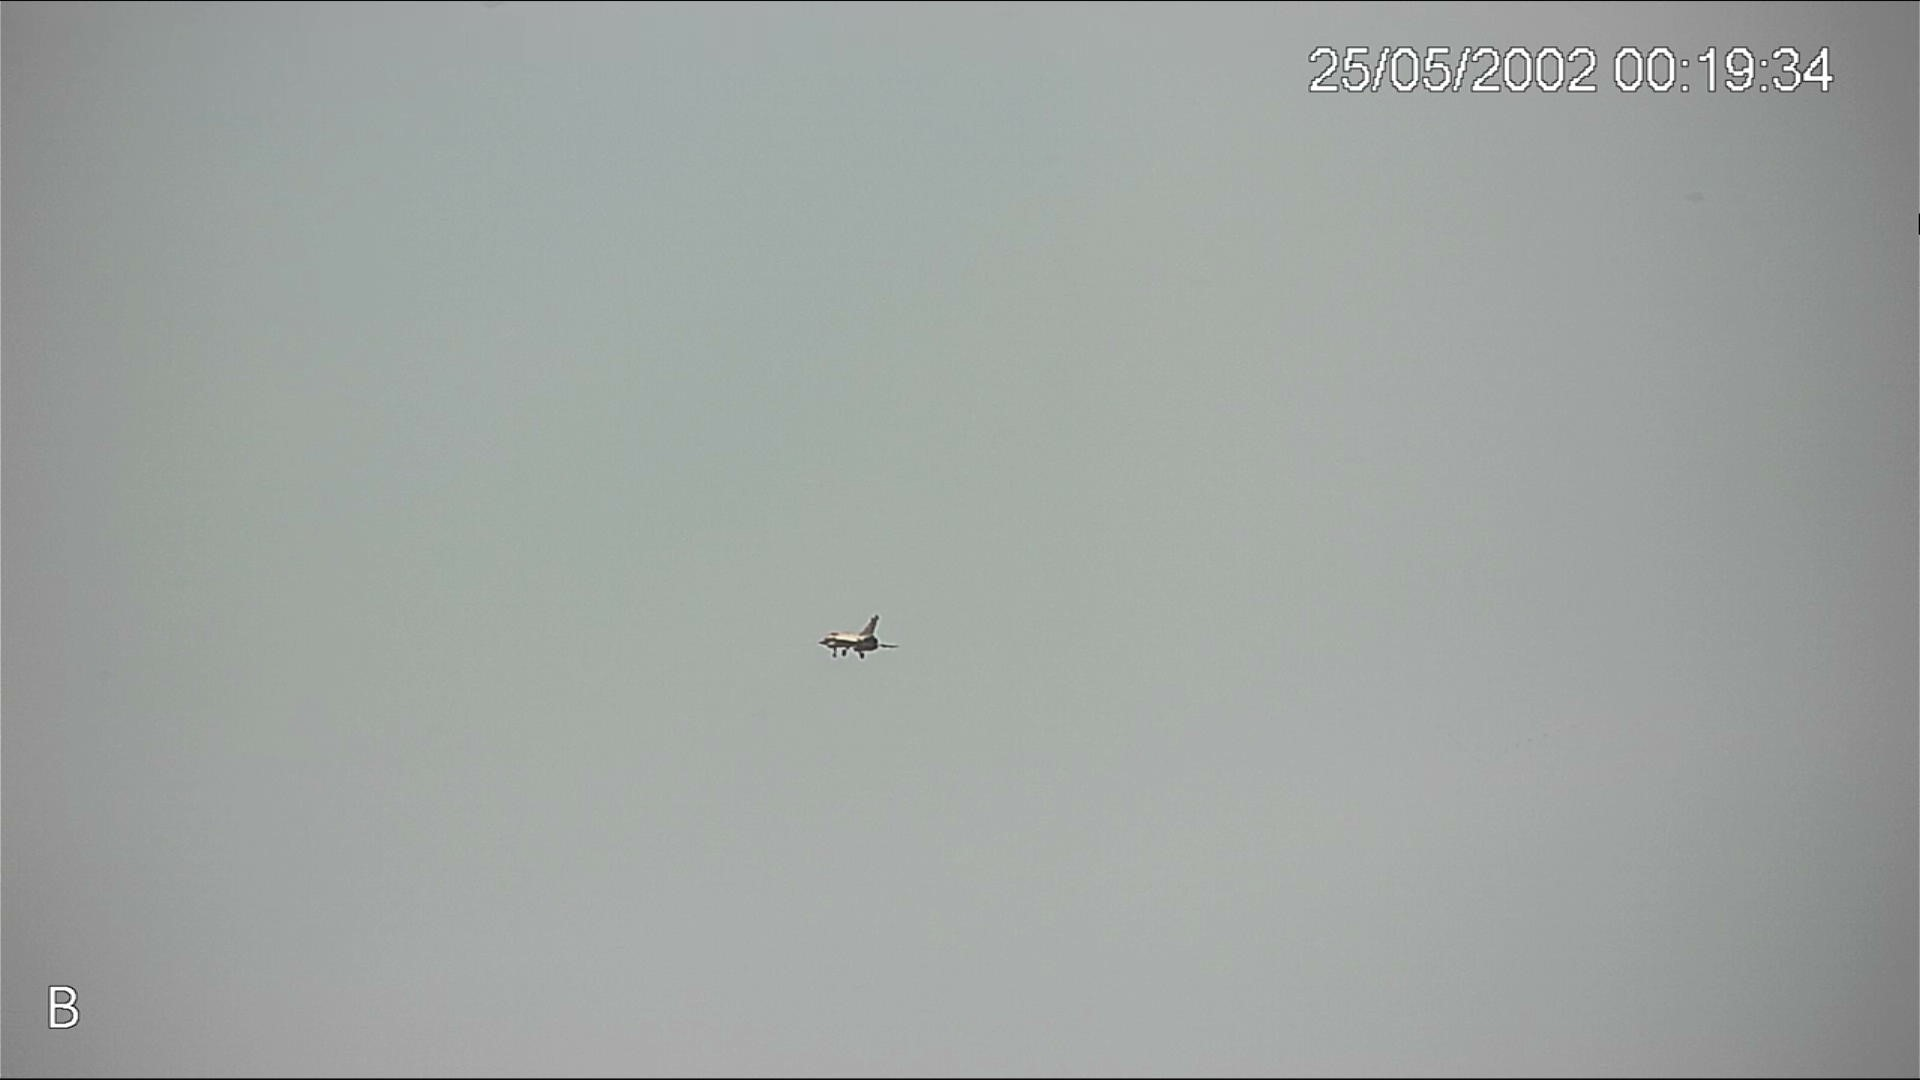SU_30: (818, 613, 899, 662)
